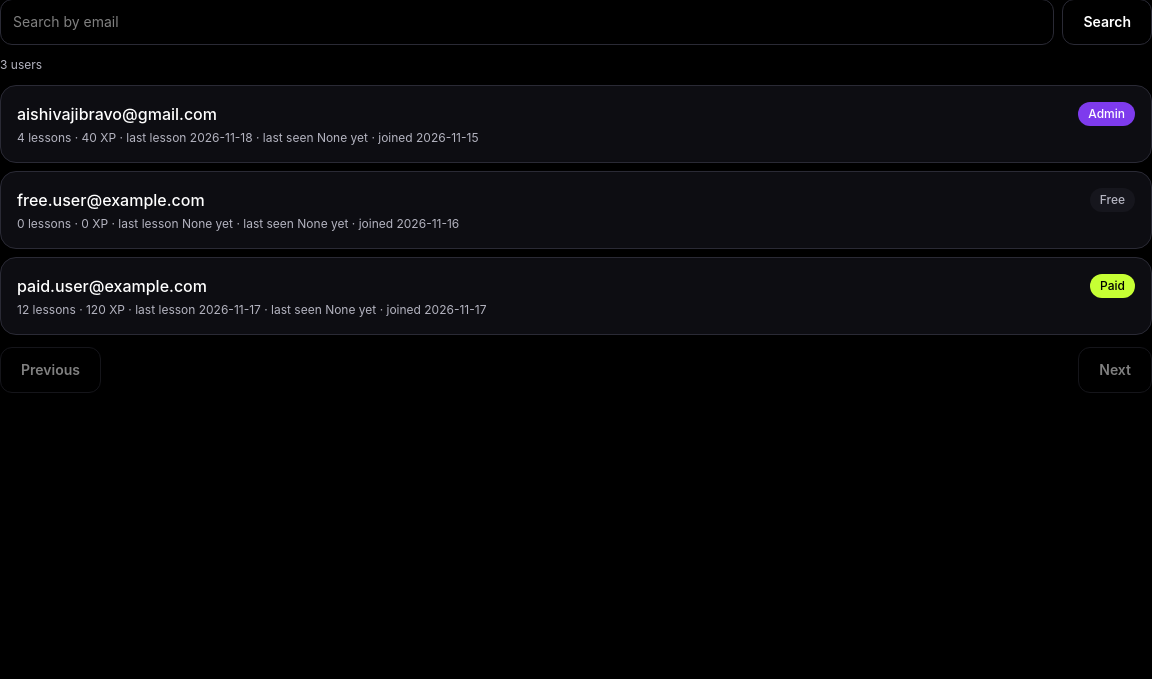
Scenario: admin console › shows the learning record without artifact text
This screenshot has width=1152, height=679.
What coordinates should you click on to do the following:
click the text "free.user@example.com"
I would click on:
 (111, 200)
Its box is [17, 188, 205, 212].
(page scrolled)
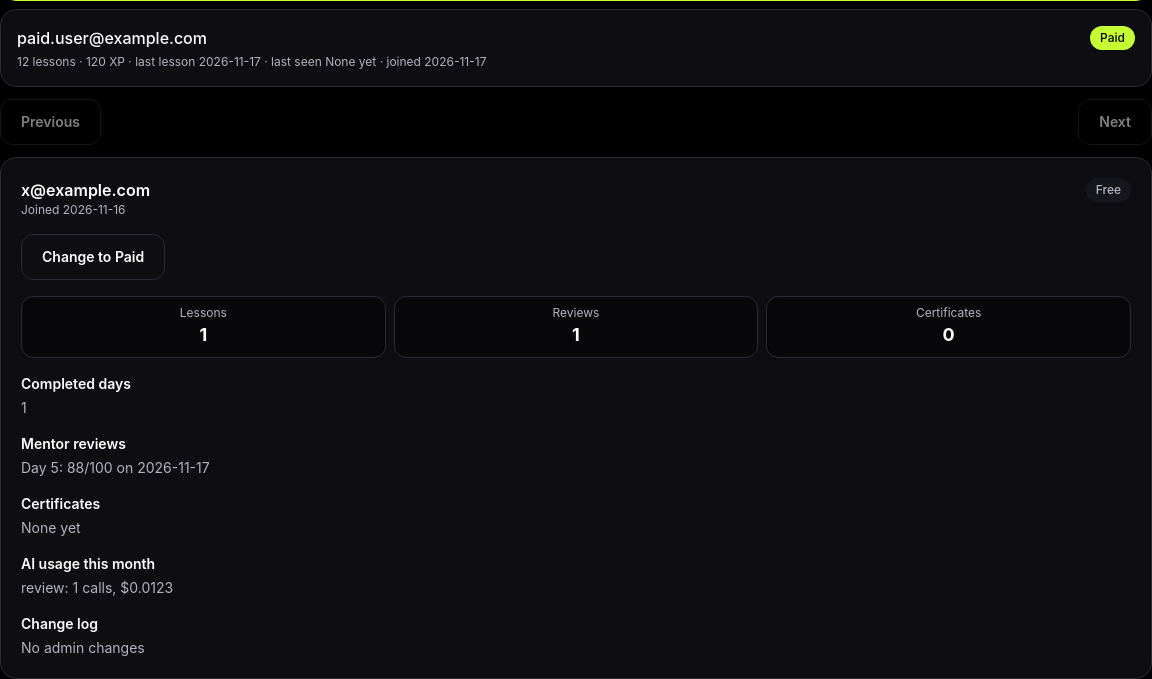
expect the list item "Day 5: 88/100 on 2026-11-17" is shown: met, box [21, 459, 210, 476]
expect the list item "review: 1 calls, $0.0123" is shown: met, box [21, 579, 173, 596]
